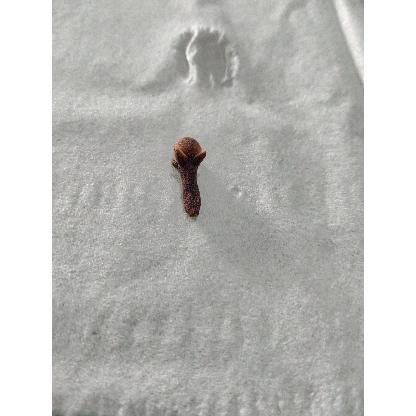baik: (172, 137, 207, 220)
